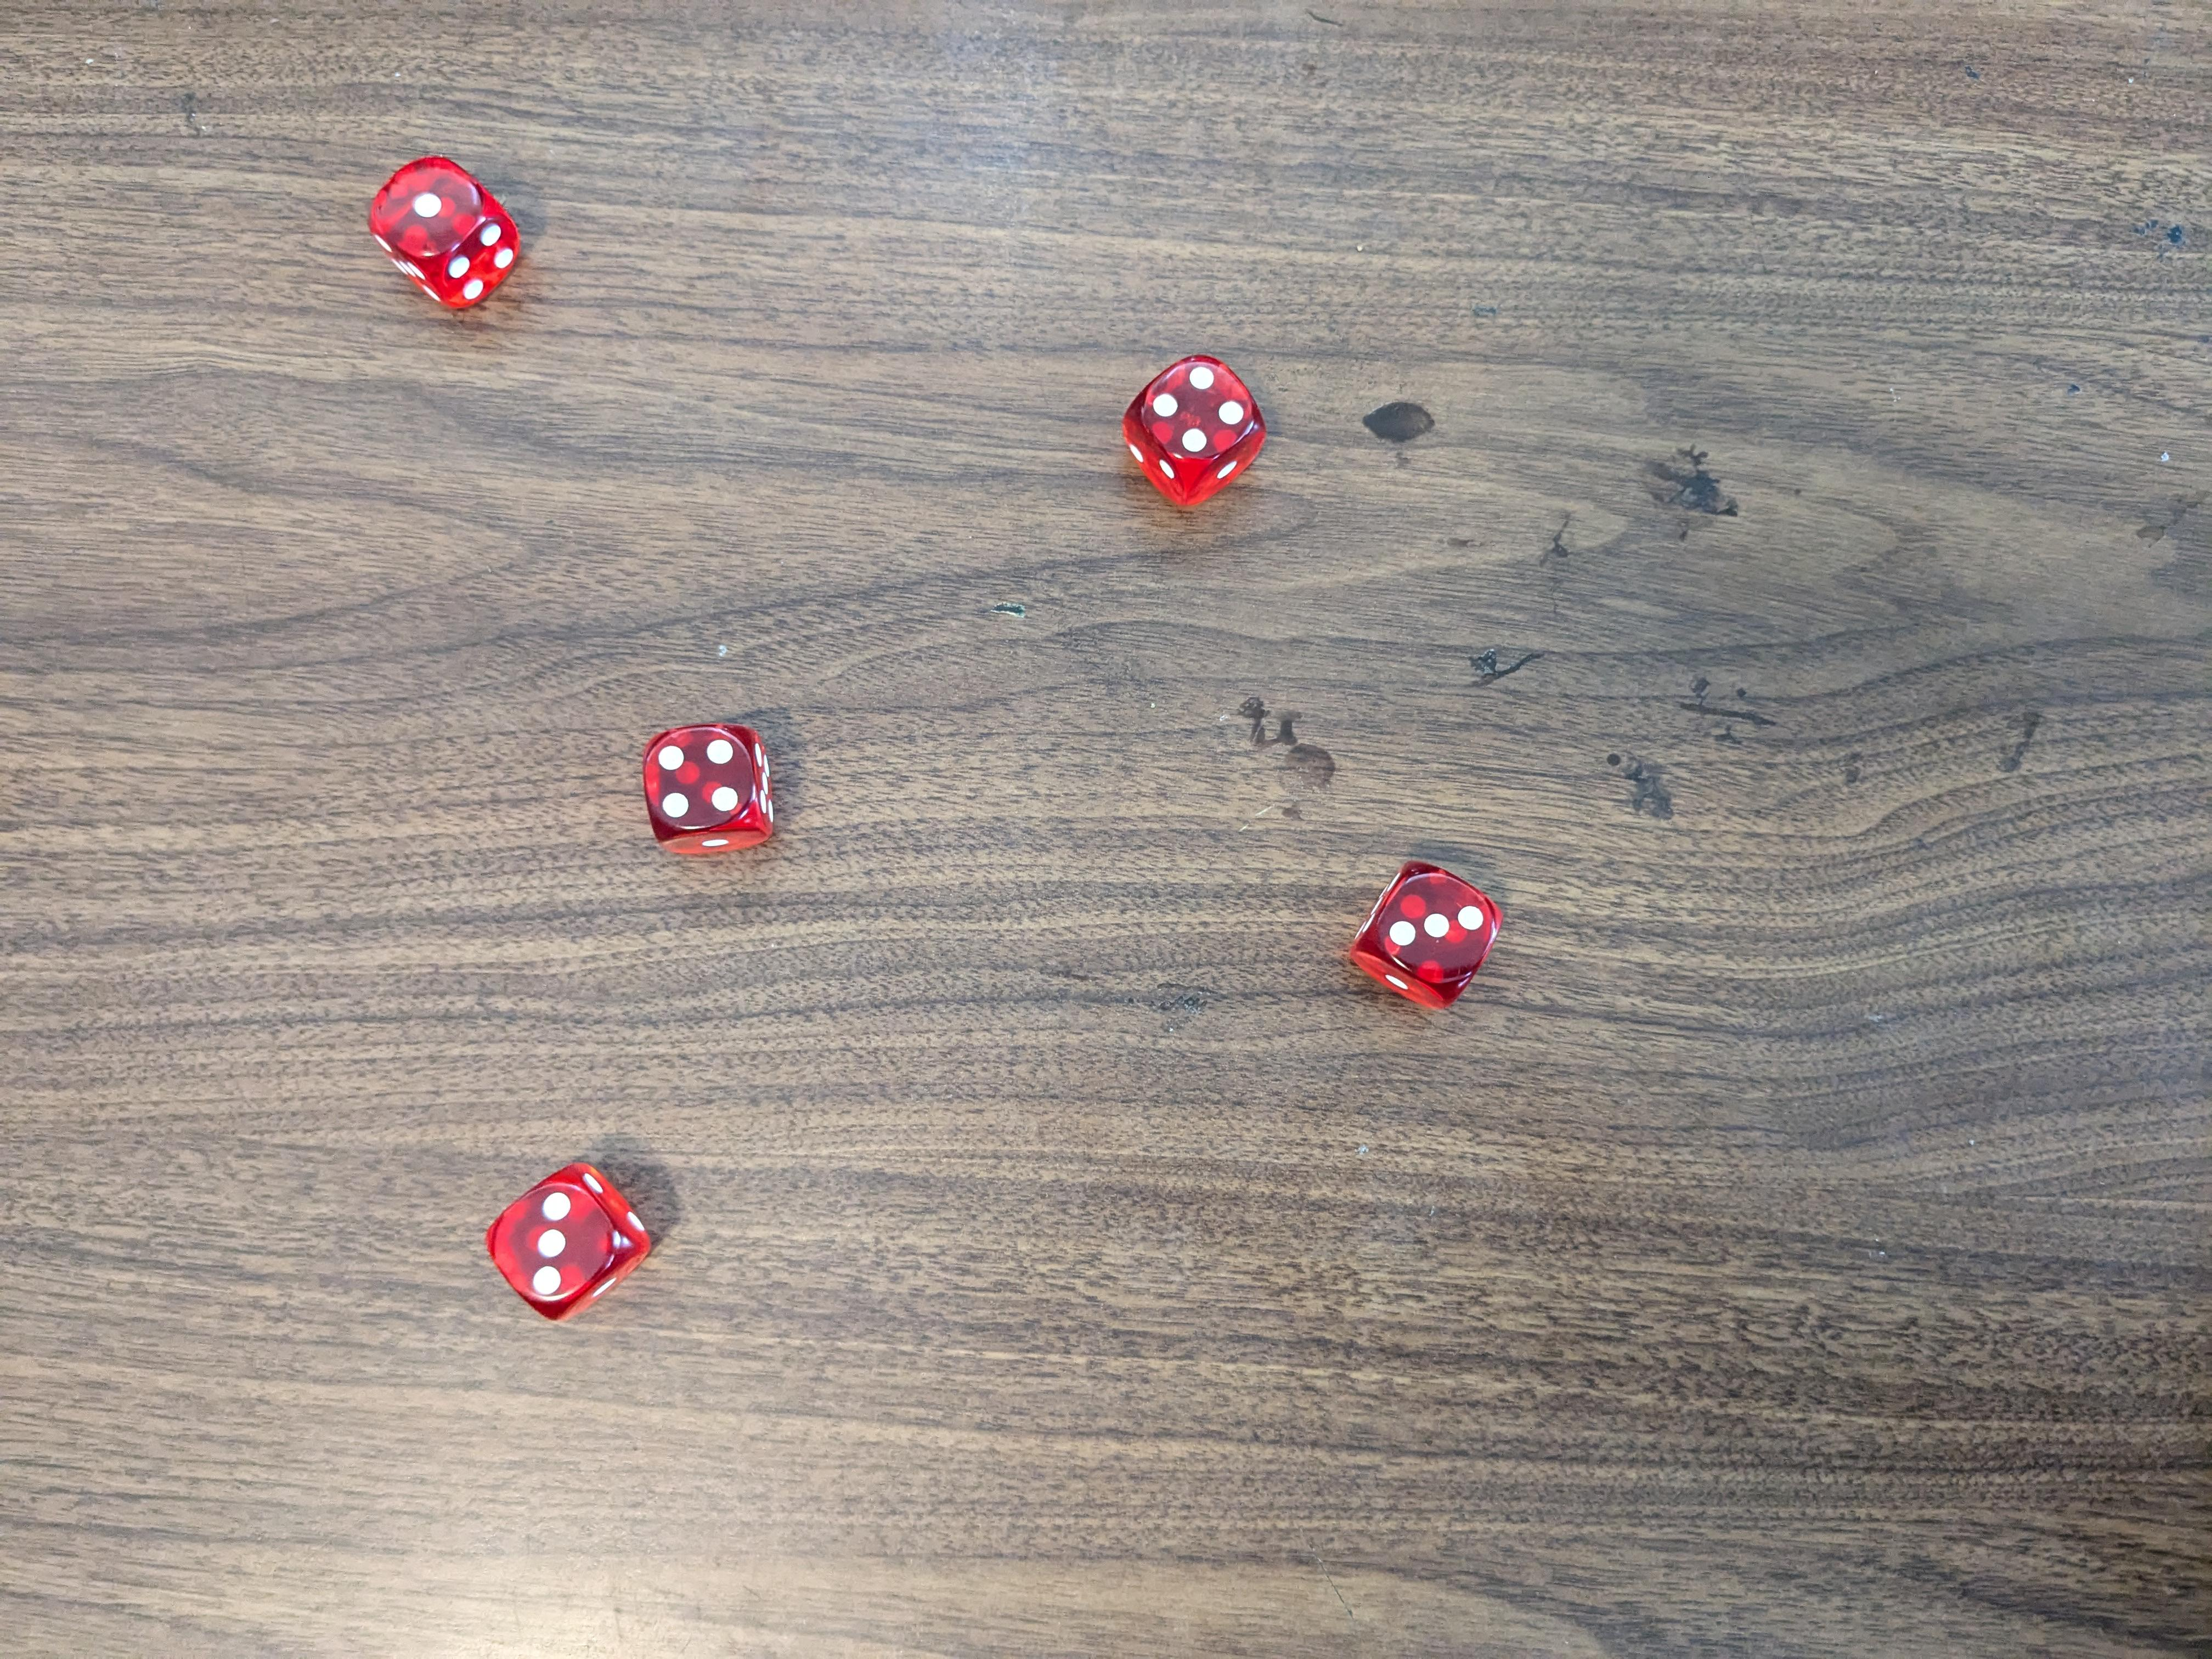four: (1118, 349, 1266, 507), (643, 723, 777, 863)
one: (362, 152, 529, 314)
three: (482, 1159, 653, 1319), (1346, 857, 1507, 1019)
